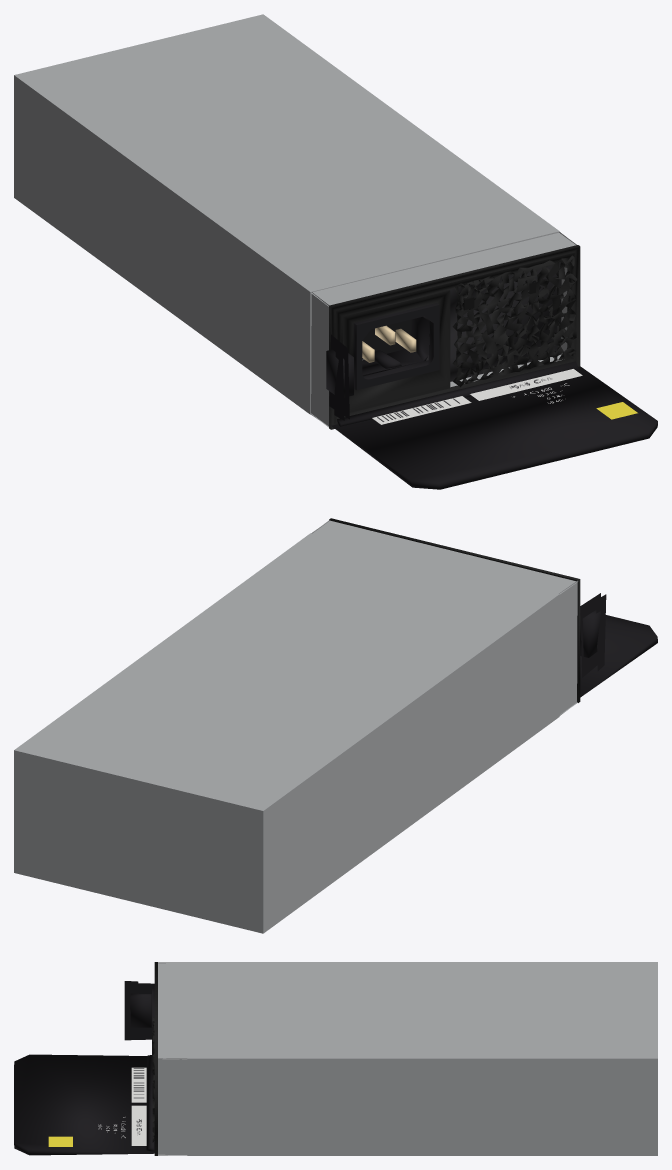
The model's file is PWR-C5-600WAC.far.glb.
3 renders of one model, top to bottom at view 1: azimuth 30°, elevation 25°; view 2: azimuth 150°, elevation 25°; view 3: azimuth 270°, elevation 25°, orthographic. The views are drawn at different scales.
Parts seen in each view (by area): view 1: Body_far; view 2: Body_far; view 3: Body_far.
Boxes of the visible parts, x1=… form: Body_far: x1=14, y1=14, x2=657, y2=489; Body_far: x1=14, y1=518, x2=657, y2=933; Body_far: x1=14, y1=962, x2=657, y2=1155.
Size of the model in its own units: 0.0864 by 0.0395 by 0.2367.
2 materials, 1 textured.
